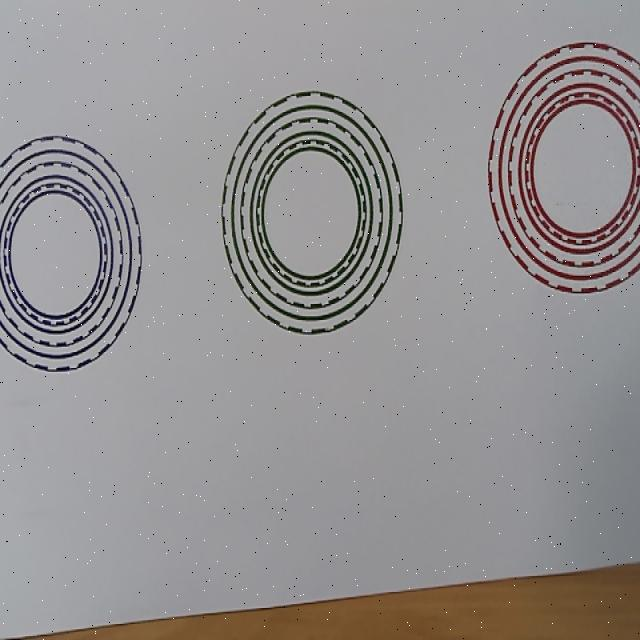g: (221, 90, 403, 334)
